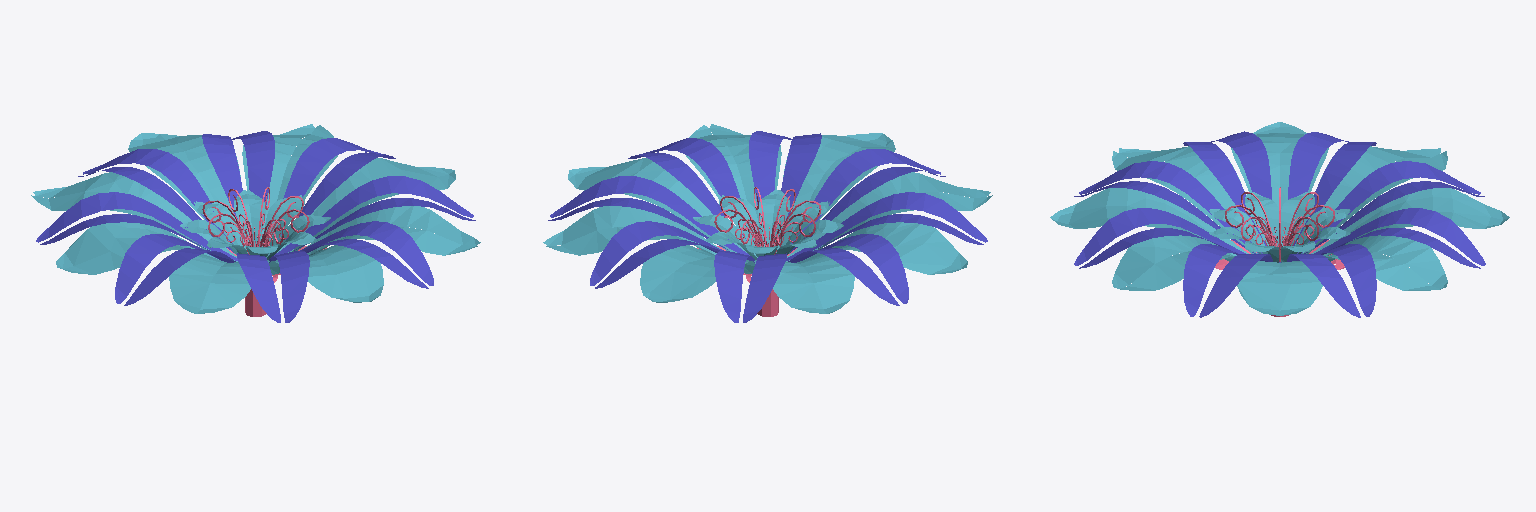
File: flower_small.obj
The picture shows the model from 3 angles: view 1: azimuth 30°, elevation 25°; view 2: azimuth 150°, elevation 25°; view 3: azimuth 270°, elevation 25°; orthographic projection.
Parts seen in each view (by area): view 1: Ground_Flower_Medium_Plane.008; view 2: Ground_Flower_Medium_Plane.008; view 3: Ground_Flower_Medium_Plane.008.
Boxes of the visible parts, x1=… form: Ground_Flower_Medium_Plane.008: x1=31, y1=124, x2=480, y2=322; Ground_Flower_Medium_Plane.008: x1=543, y1=124, x2=992, y2=322; Ground_Flower_Medium_Plane.008: x1=1050, y1=122, x2=1509, y2=317.
Size of the model in its own units: 6.68 by 1.81 by 6.68.